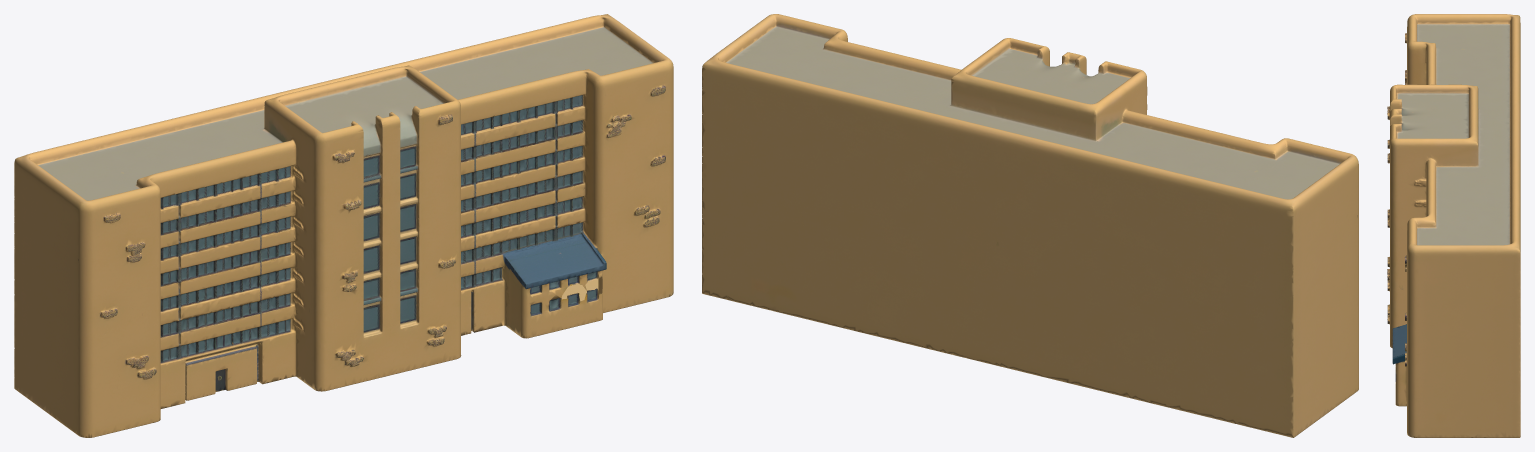
File: wuchon.glb
The picture shows the model from 3 angles, left to right: view 1: azimuth 30°, elevation 25°; view 2: azimuth 150°, elevation 25°; view 3: azimuth 270°, elevation 25°; orthographic projection. The views are drawn at different scales.
Visible parts, largest first — view 1: Mesh_0.001; view 2: Mesh_0.001; view 3: Mesh_0.001.
Boxes of the visible parts, bbox=[...] form: Mesh_0.001: bbox=[14, 14, 673, 437]; Mesh_0.001: bbox=[702, 14, 1358, 437]; Mesh_0.001: bbox=[1387, 14, 1520, 437].
Size of the model in its own units: 75.92 by 31.32 by 18.12.
Materials: 1 (1 with a texture image).
